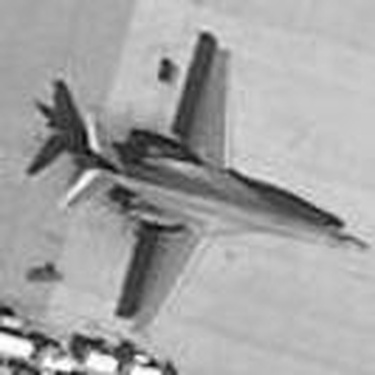airplane: (17, 17, 362, 350)
